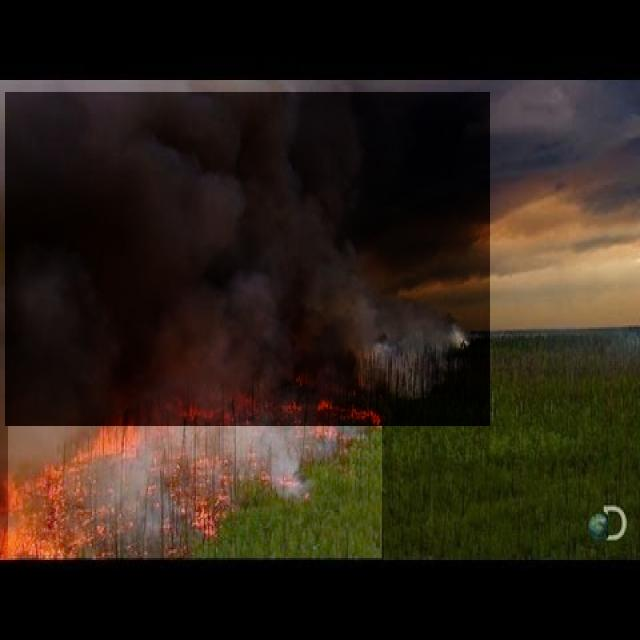Fire: (8, 358, 382, 558)
Smoke: (5, 92, 490, 426)
